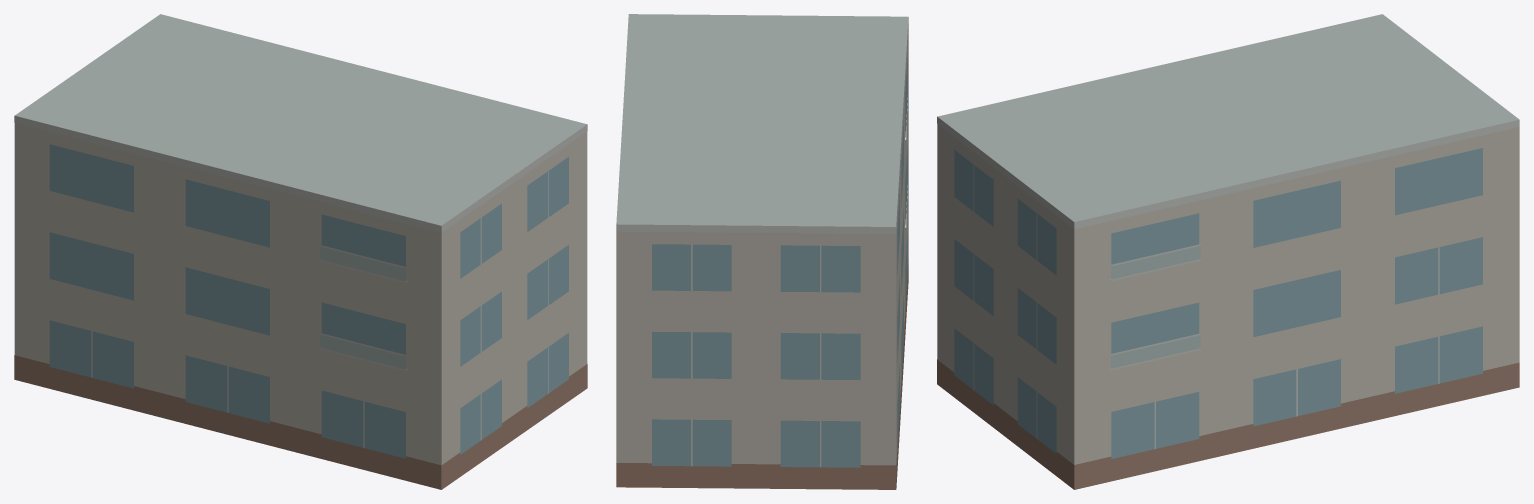
Rendered from survey-upis-32706503.glb.
3 renders of one model, left to right at view 1: azimuth 30°, elevation 25°; view 2: azimuth 150°, elevation 25°; view 3: azimuth 270°, elevation 25°, orthographic.
Visible parts, largest first — view 1: survey-upis-32706503.tmp; view 2: survey-upis-32706503.tmp; view 3: survey-upis-32706503.tmp.
Part boxes in pixels (x1,y1,x2,y2): survey-upis-32706503.tmp: (14, 14, 587, 489); survey-upis-32706503.tmp: (616, 14, 908, 489); survey-upis-32706503.tmp: (937, 14, 1519, 489).
Size of the model in its own units: 15.27 by 9.15 by 18.05.
